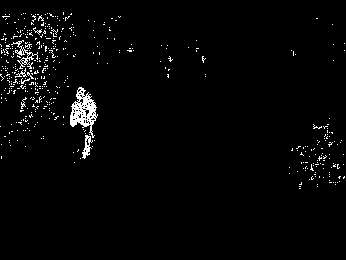person: (69, 87, 96, 157)
